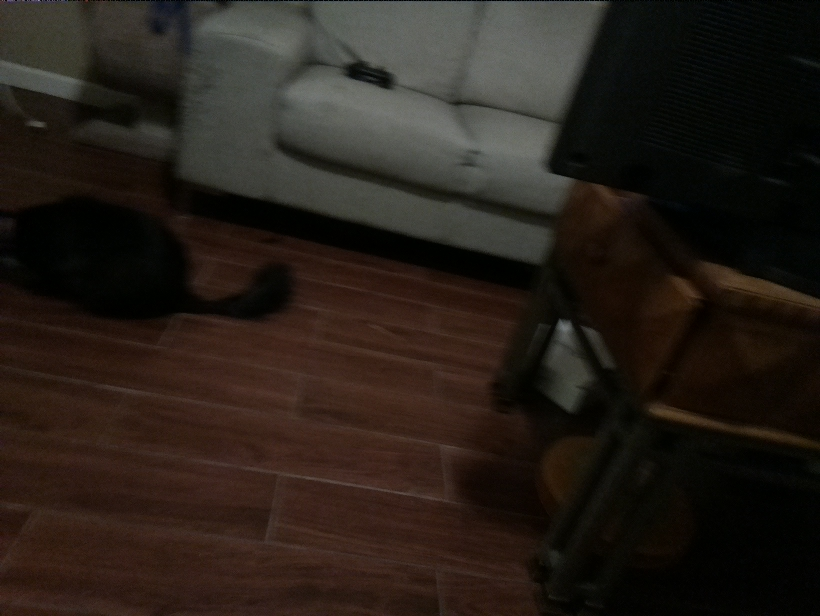cat: (1, 195, 298, 337)
